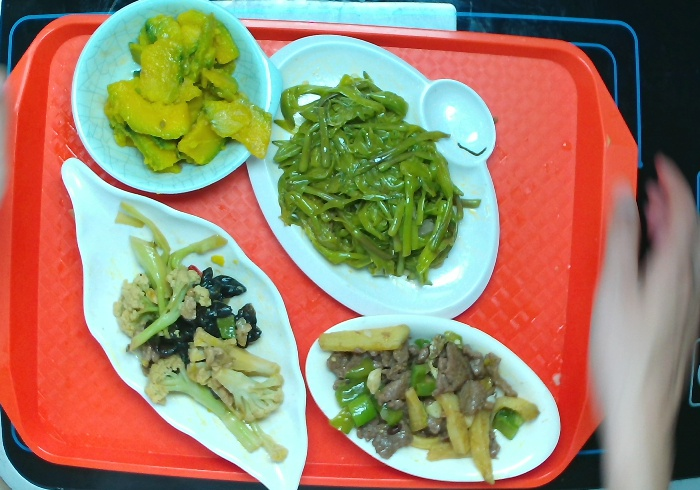RJxy-Bai_Se_Tuo_Yuan: (299, 308, 564, 487)
RJxy-Shu_Ye_Pan: (54, 153, 310, 485)
RJxy-Xiao_Jiao_Yuan_Wan: (65, 1, 288, 201)
RJxy-Zhan_Liao_Pan: (244, 31, 504, 324)
